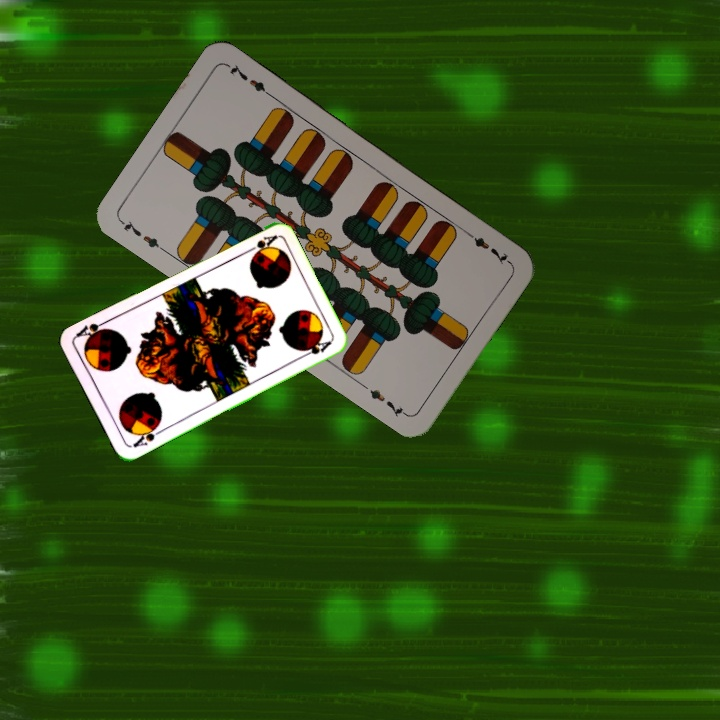E7: (461, 226, 512, 268), (117, 216, 169, 255)
SA: (129, 420, 166, 450), (241, 231, 279, 257)
